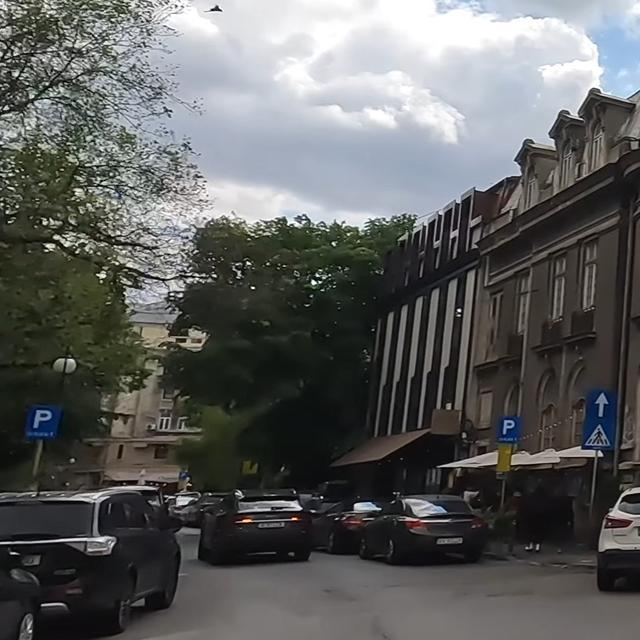info_crosswalk: (581, 418, 617, 451)
